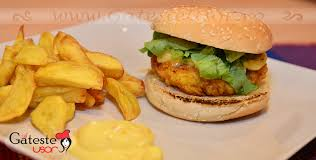hamburger: (141, 5, 278, 122)
